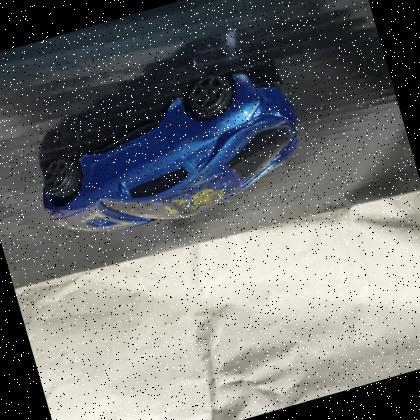Car: (40, 70, 300, 231)
